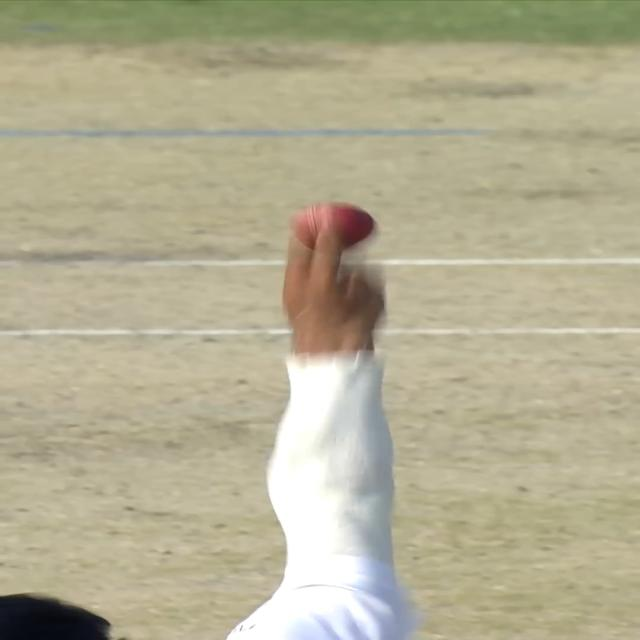Cricket ball: (287, 198, 387, 256)
